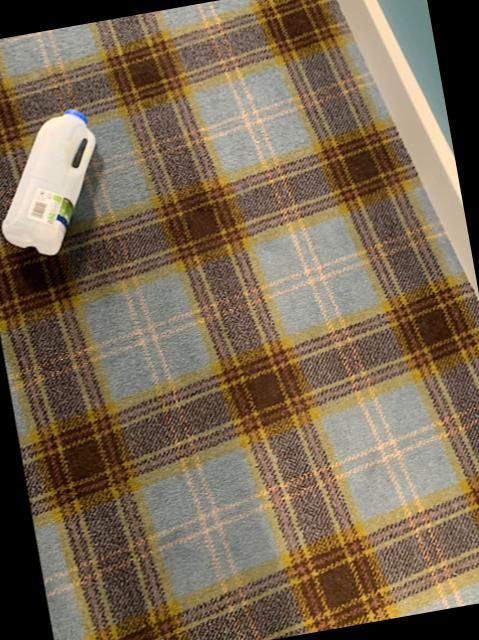plastic: (0, 110, 92, 255)
